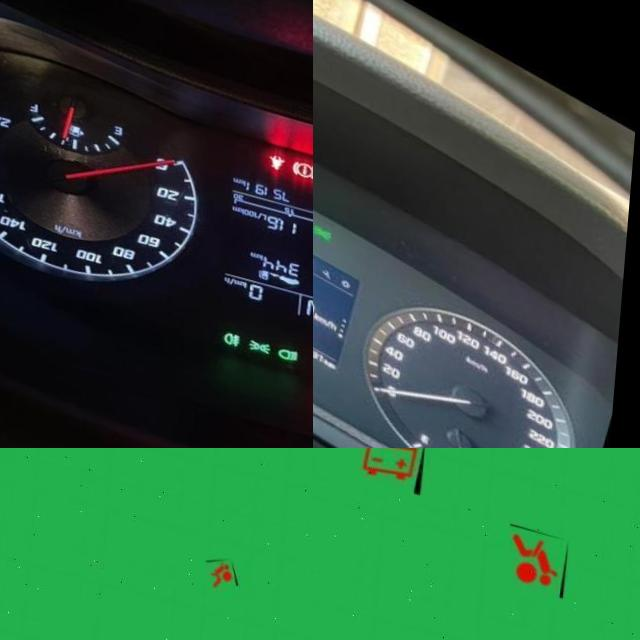Seat Belt: (269, 133, 289, 157)
